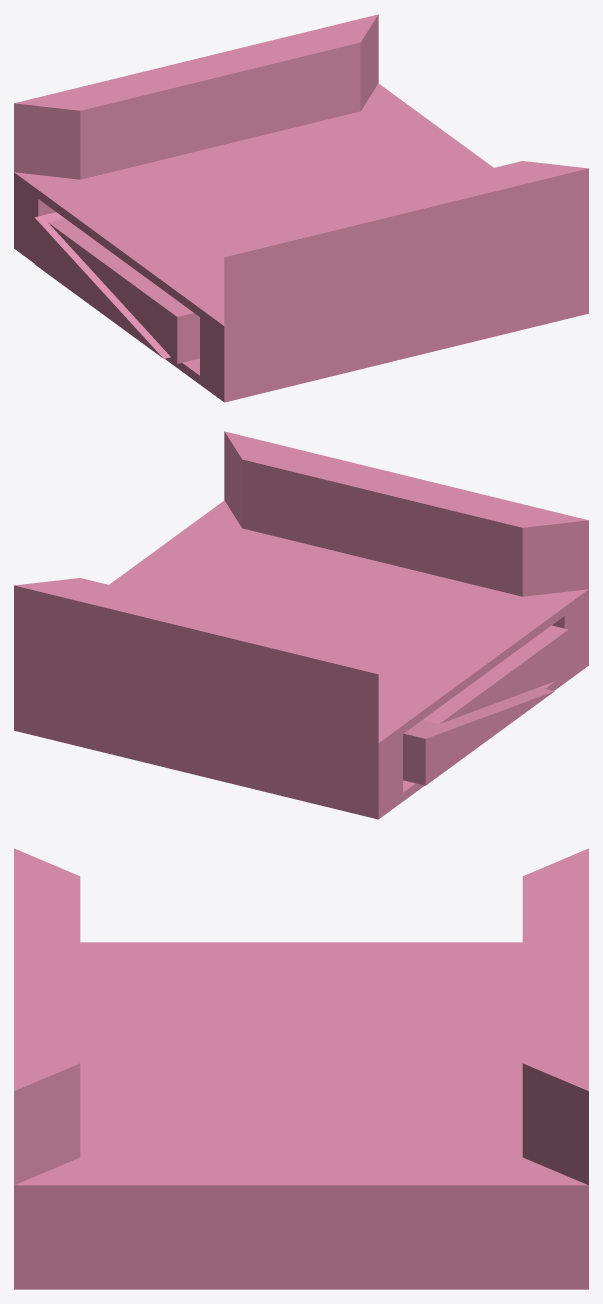
The picture shows the model from 3 angles, top to bottom: view 1: azimuth 30°, elevation 25°; view 2: azimuth 150°, elevation 25°; view 3: azimuth 270°, elevation 25°; orthographic projection. The views are drawn at different scales.
Parts seen in each view (by area): view 1: EpicConsole420; view 2: EpicConsole420; view 3: EpicConsole420.
Part boxes in pixels (left/top/right/bottom): EpicConsole420: left=14, top=14, right=588, bottom=402; EpicConsole420: left=14, top=431, right=588, bottom=819; EpicConsole420: left=14, top=848, right=588, bottom=1289.
Bounding box in the file's own units: 10.37 × 3.81 × 10.
